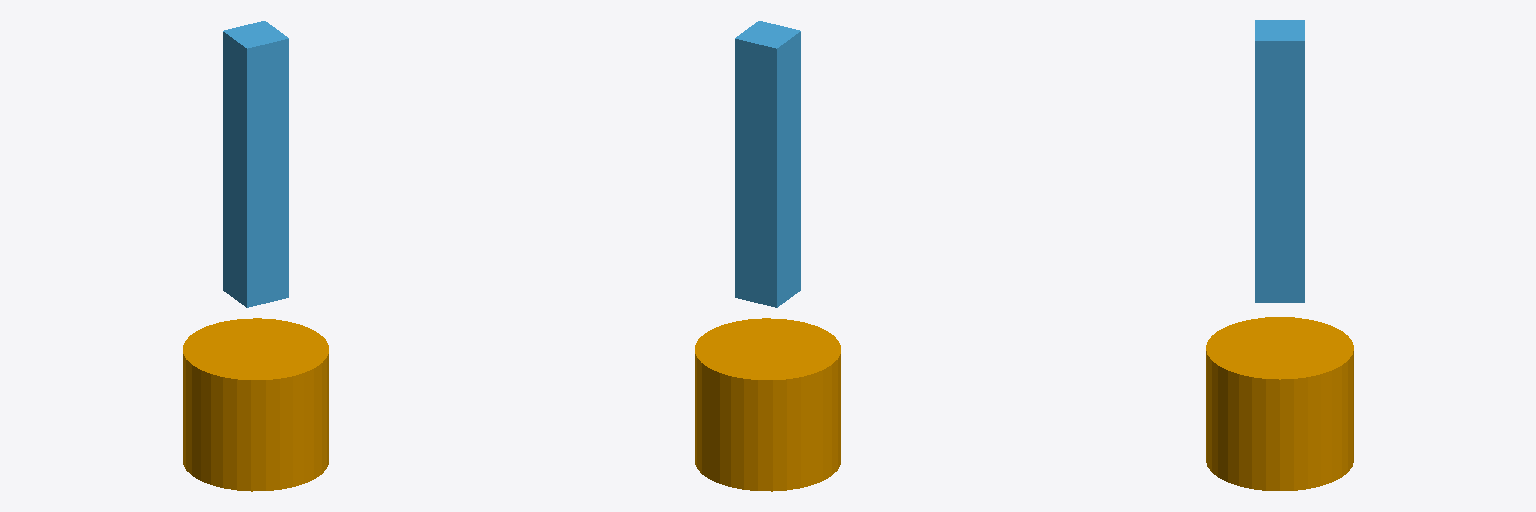
The robot description file, URDF, robot "assembly_cell_arm":
<?xml version="1.0" encoding="utf-8"?>
<robot name="assembly_cell_arm">
  <link name="base_link">
    <inertial>
      <origin xyz="0 0 0.15" rpy="0 0 0" />
      <mass value="28.0" />
      <inertia ixx="0.45" ixy="0" ixz="0" iyy="0.45" iyz="0" izz="0.32" />
    </inertial>
    <visual>
      <geometry><cylinder radius="0.18" length="0.30" /></geometry>
    </visual>
    <collision>
      <geometry><cylinder radius="0.18" length="0.30" /></geometry>
    </collision>
  </link>
  <link name="upper_arm">
    <inertial>
      <origin xyz="0 0 0.35" rpy="0 0 0" />
      <mass value="12.5" />
      <inertia ixx="0.22" ixy="0" ixz="0" iyy="0.22" iyz="0" izz="0.06" />
    </inertial>
    <visual>
      <origin xyz="0 0 0.35" rpy="0 0 0" />
      <geometry><box size="0.12 0.12 0.70" /></geometry>
    </visual>
    <collision>
      <origin xyz="0 0 0.35" rpy="0 0 0" />
      <geometry><box size="0.12 0.12 0.70" /></geometry>
    </collision>
  </link>
  <joint name="shoulder_yaw" type="revolute">
    <parent link="base_link" />
    <child link="upper_arm" />
    <origin xyz="0 0 0.30" rpy="0 0 0" />
    <axis xyz="0 0 1" />
    <limit lower="-3.14159" upper="3.14159" effort="180.0" velocity="2.5" />
  </joint>
</robot>

--- What the picture shows (computed from the rendered views, not written in the file) ---
The picture shows the robot from 3 angles, left to right: view 1: azimuth 30°, elevation 25°; view 2: azimuth 150°, elevation 25°; view 3: azimuth 270°, elevation 25°; orthographic projection.
Model assembly_cell_arm with 2 links and 1 joints (1 revolute), rooted at base_link, posed all joints at 0.
Links seen in each view (by area): view 1: base_link, upper_arm; view 2: base_link, upper_arm; view 3: base_link, upper_arm.
Boxes of the visible links, <box> form: base_link: <box>183,318,328,491</box>; upper_arm: <box>223,21,288,307</box>; base_link: <box>695,318,840,491</box>; upper_arm: <box>735,21,800,307</box>; base_link: <box>1206,317,1353,490</box>; upper_arm: <box>1255,20,1304,302</box>.
Bounding box of the posed robot: 0.36 × 0.36 × 1.15 m (x, y, z).
Geometry: primitives only (box / cylinder / sphere), no mesh files.
